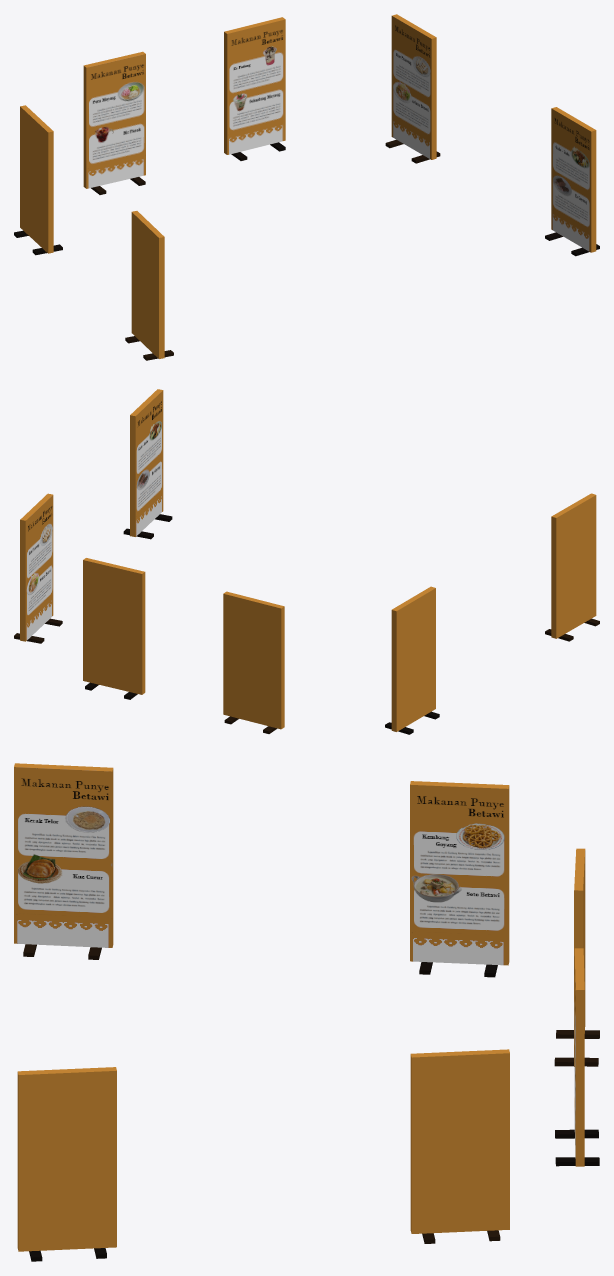
The model's file is resep.fbx.
3 views of the same model, one above another, from view 1: azimuth 30°, elevation 25°; view 2: azimuth 150°, elevation 25°; view 3: azimuth 270°, elevation 25° (orthographic). The views are drawn at different scales.
Parts seen in each view (by area): view 1: resep, resep.001; view 2: resep, resep.001; view 3: resep, resep.001.
Part boxes in pixels (box(x1,y1,x2,y2)): resep: box(14, 14, 599, 256); resep.001: box(125, 211, 173, 360); resep: box(14, 389, 439, 734); resep.001: box(545, 493, 599, 641); resep: box(17, 781, 599, 1261); resep.001: box(14, 763, 113, 959).
Bounding box in the file's own units: 1159 × 302 × 888.
